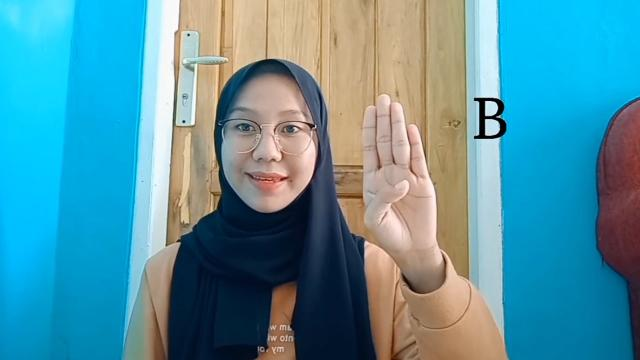B: (364, 92, 440, 254)
